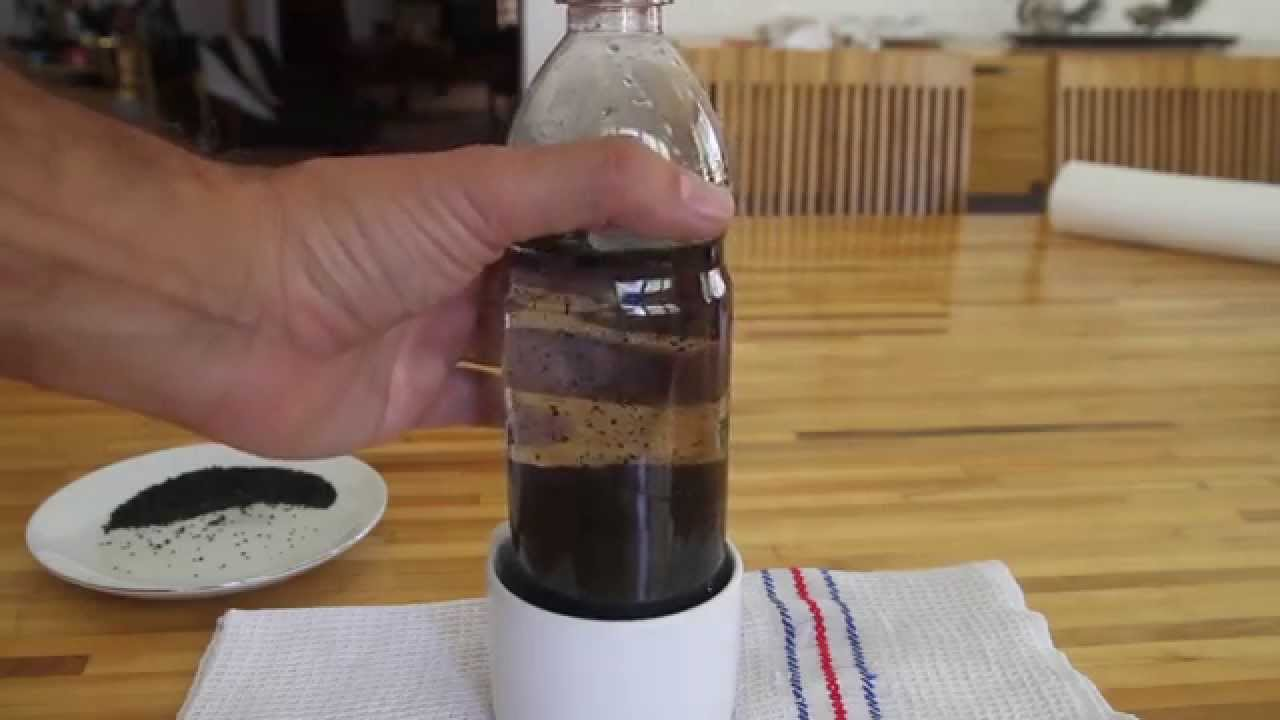plastic_bottle: (311, 1, 801, 652)
